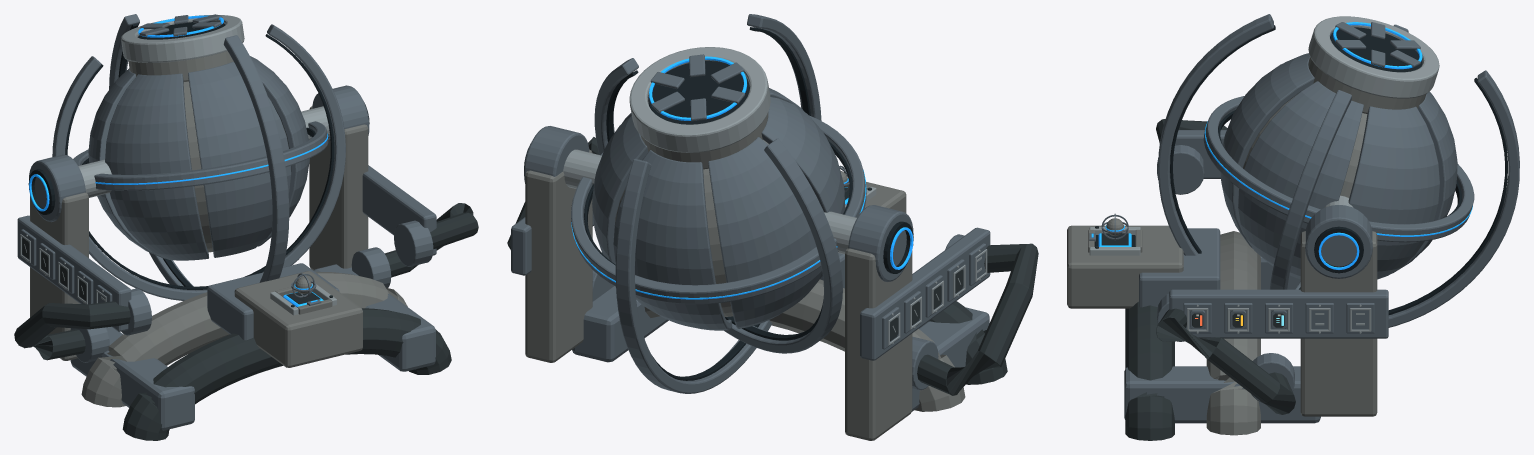
File: HyperphereMortar.glb
3 renders of one model, left to right at view 1: azimuth 30°, elevation 25°; view 2: azimuth 150°, elevation 25°; view 3: azimuth 270°, elevation 25°, orthographic. The views are drawn at different scales.
Parts seen in each view (by area): view 1: Hyperphere | spherical armor sector 3, Hyperphere | spherical armor sector 4, Hyperphere | rear shoulder cushion, Hyperphere | curved shoulder saddle, Hyperphere | aft dock spine, Hyperphere | rotating open containment ring 1, Hyperphere | trunnion tower 1, Hyperphere | rotating open containment ring 2, Hyperphere | offset grab handle -1, Hyperphere | rotating containment ring 0, Hyperphere | saddle longitudinal rail -1, Hyperphere | trunnion tower -1 (+21 smaller); view 2: Hyperphere | spherical armor sector 2, Hyperphere | spherical armor sector 1, Hyperphere | trunnion tower 1, Hyperphere | trunnion tower -1, Hyperphere | rotating open containment ring 2, Hyperphere | rotating containment ring 0, Hyperphere | launch iris housing, Hyperphere | rotating open containment ring 1, Hyperphere | offset grab handle -1, Hyperphere | spherical armor sector 3, Hyperphere | bonded control rail -1, Hyperphere | spherical armor sector 0 (+20 smaller); view 3: Hyperphere | spherical armor sector 5, Hyperphere | spherical armor sector 0, Hyperphere | trunnion tower 1, Hyperphere | rotating open containment ring 2, Hyperphere | aft dock spine, Hyperphere | bonded control rail 1, Hyperphere | curved shoulder saddle, Hyperphere | rear shoulder cushion, Hyperphere | launch iris housing, Hyperphere | rotating containment ring 0, Hyperphere | spherical armor sector 4, Hyperphere | saddle longitudinal rail 1 (+21 smaller).
Boxes of the visible parts, x1=… form: Hyperphere | spherical armor sector 3: x1=105, y1=73, x2=208, y2=260; Hyperphere | spherical armor sector 4: x1=188, y1=62, x2=291, y2=257; Hyperphere | rear shoulder cushion: x1=122, y1=308, x2=451, y2=440; Hyperphere | curved shoulder saddle: x1=81, y1=271, x2=407, y2=407; Hyperphere | aft dock spine: x1=234, y1=271, x2=362, y2=367; Hyperphere | rotating open containment ring 1: x1=52, y1=24, x2=345, y2=300; Hyperphere | trunnion tower 1: x1=309, y1=106, x2=368, y2=270; Hyperphere | rotating open containment ring 2: x1=109, y1=14, x2=289, y2=286; Hyperphere | offset grab handle -1: x1=14, y1=301, x2=130, y2=360; Hyperphere | rotating containment ring 0: x1=73, y1=121, x2=328, y2=190; Hyperphere | saddle longitudinal rail -1: x1=70, y1=326, x2=194, y2=430; Hyperphere | trunnion tower -1: x1=30, y1=192, x2=88, y2=360; Hyperphere | spherical armor sector 2: x1=708, y1=137, x2=822, y2=328; Hyperphere | spherical armor sector 1: x1=613, y1=150, x2=732, y2=330; Hyperphere | trunnion tower 1: x1=525, y1=149, x2=592, y2=362; Hyperphere | trunnion tower -1: x1=845, y1=248, x2=912, y2=440; Hyperphere | rotating open containment ring 2: x1=615, y1=14, x2=821, y2=393; Hyperphere | rotating containment ring 0: x1=571, y1=115, x2=866, y2=304; Hyperphere | launch iris housing: x1=629, y1=47, x2=770, y2=152; Hyperphere | rotating open containment ring 1: x1=594, y1=58, x2=842, y2=353; Hyperphere | offset grab handle -1: x1=917, y1=243, x2=1038, y2=395; Hyperphere | spherical armor sector 3: x1=761, y1=97, x2=845, y2=280; Hyperphere | bonded control rail -1: x1=860, y1=227, x2=990, y2=360; Hyperphere | spherical armor sector 0: x1=592, y1=116, x2=648, y2=264; Hyperphere | spherical armor sector 5: x1=1238, y1=81, x2=1363, y2=279; Hyperphere | spherical armor sector 0: x1=1348, y1=106, x2=1439, y2=279; Hyperphere | trunnion tower 1: x1=1300, y1=231, x2=1377, y2=416; Hyperphere | rotating open containment ring 2: x1=1158, y1=14, x2=1519, y2=327; Hyperphere | aft dock spine: x1=1067, y1=225, x2=1183, y2=308; Hyperphere | bonded control rail 1: x1=1169, y1=289, x2=1388, y2=338; Hyperphere | curved shoulder saddle: x1=1206, y1=231, x2=1260, y2=435; Hyperphere | rear shoulder cushion: x1=1125, y1=301, x2=1174, y2=440; Hyperphere | launch iris housing: x1=1308, y1=16, x2=1439, y2=98; Hyperphere | rotating containment ring 0: x1=1203, y1=96, x2=1474, y2=242; Hyperphere | spherical armor sector 4: x1=1220, y1=55, x2=1314, y2=248; Hyperphere | saddle longitudinal rail 1: x1=1124, y1=366, x2=1320, y2=423.
Size of the model in its own units: 0.4717 by 0.339 by 0.4005.
